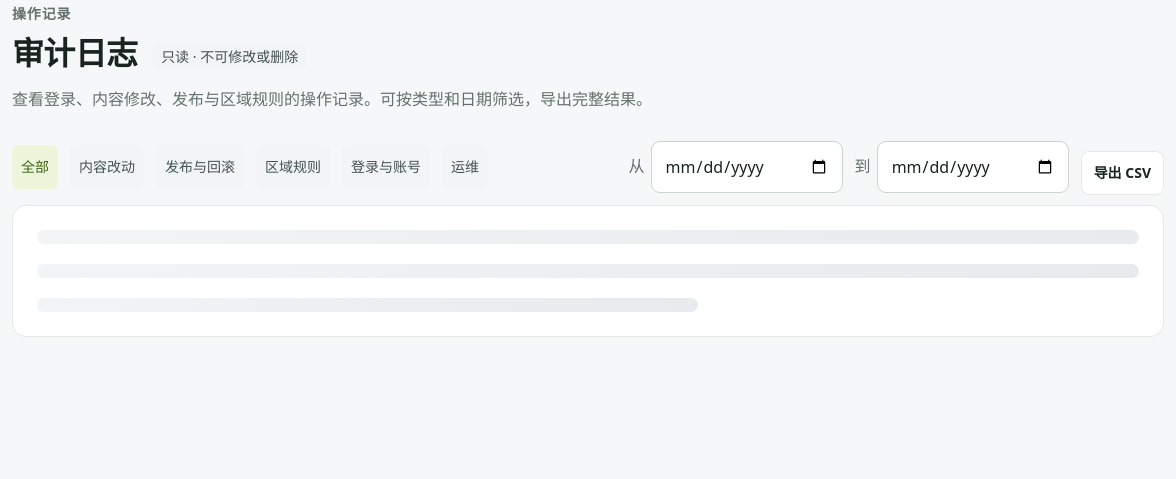
Test: audit filter requests › freezes one filter snapshot for every page of a CSV export
Click the button "内容改动".
click(107, 167)  # box [70, 145, 144, 189]
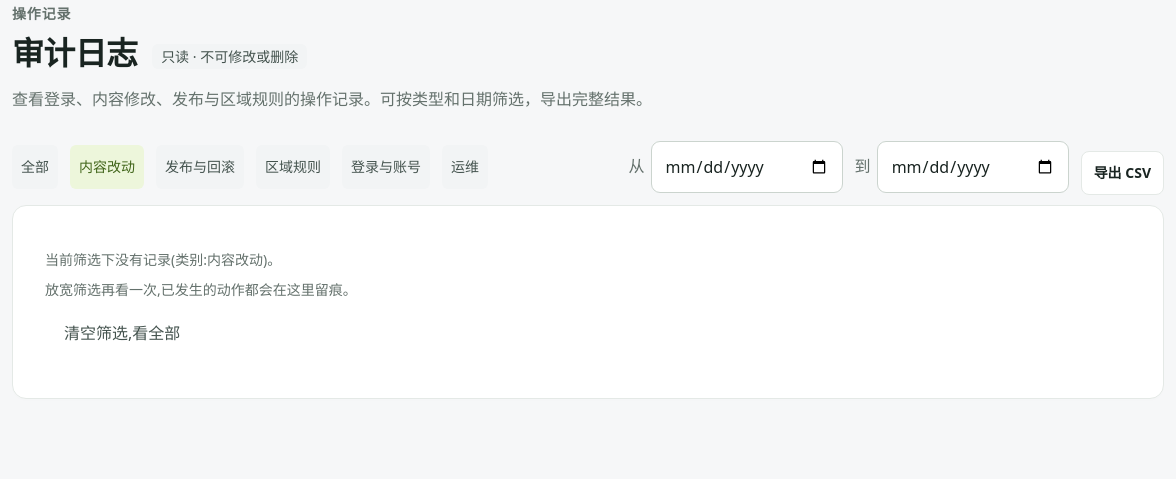
Click the button "导出 CSV".
click(1122, 173)  # box [1081, 151, 1164, 195]
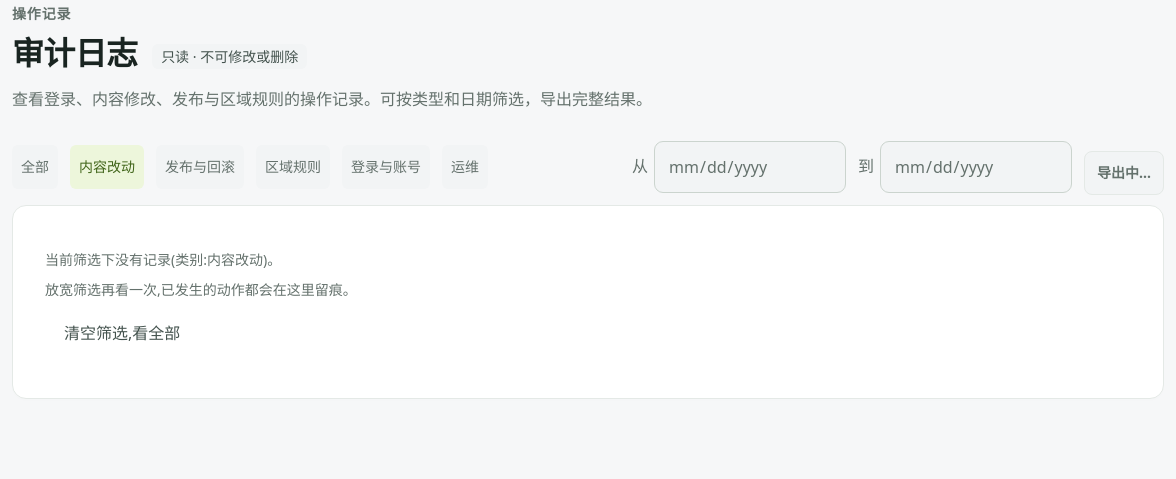
Now the button "登录与账号" is disabled
Click the button "登录与账号".
click(386, 167)  # box [342, 145, 430, 189]
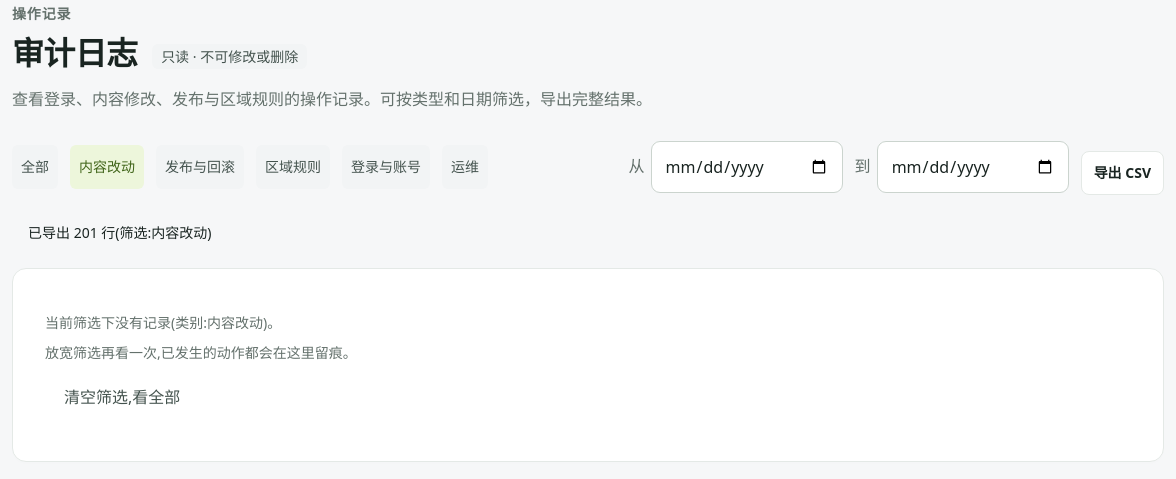
Now the text "已导出 201 行(筛选:内容改动)" is shown, box [28, 223, 212, 242]
